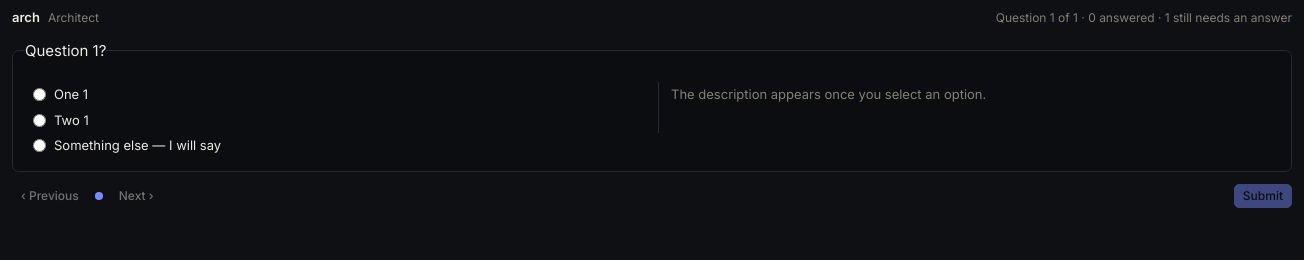
Test: the two rails of a described set › DQA-FR-TKUM, DQA-FR-LFIB: an option with no description shows the placeholder, hovered or selected
Click the radio button labelled "Two 1".
click(40, 120)  # box x1=33 y1=114 x2=46 y2=127
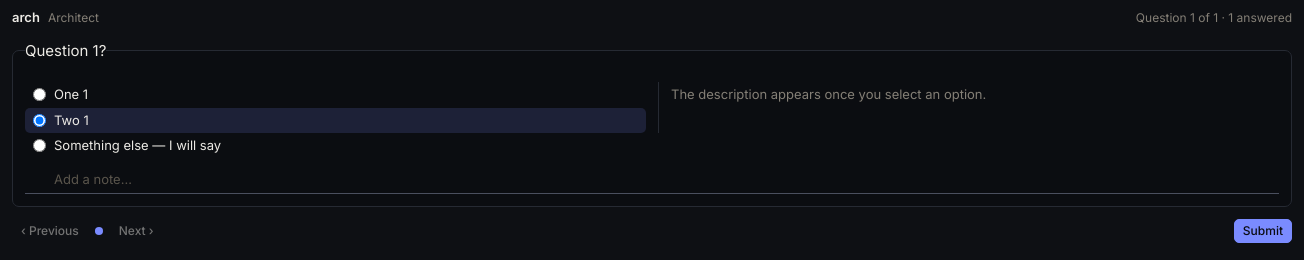
Note: The described option still shows its own.
Hover over the text "One 1".
mouse_move(61, 94)  # box x1=33 y1=86 x2=88 y2=102
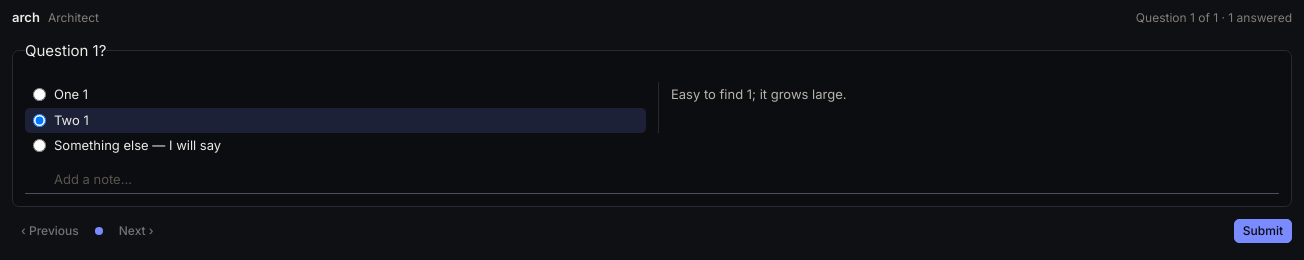
Now the text "Easy to find 1; it grows large." is shown, box x1=671 y1=86 x2=846 y2=102
